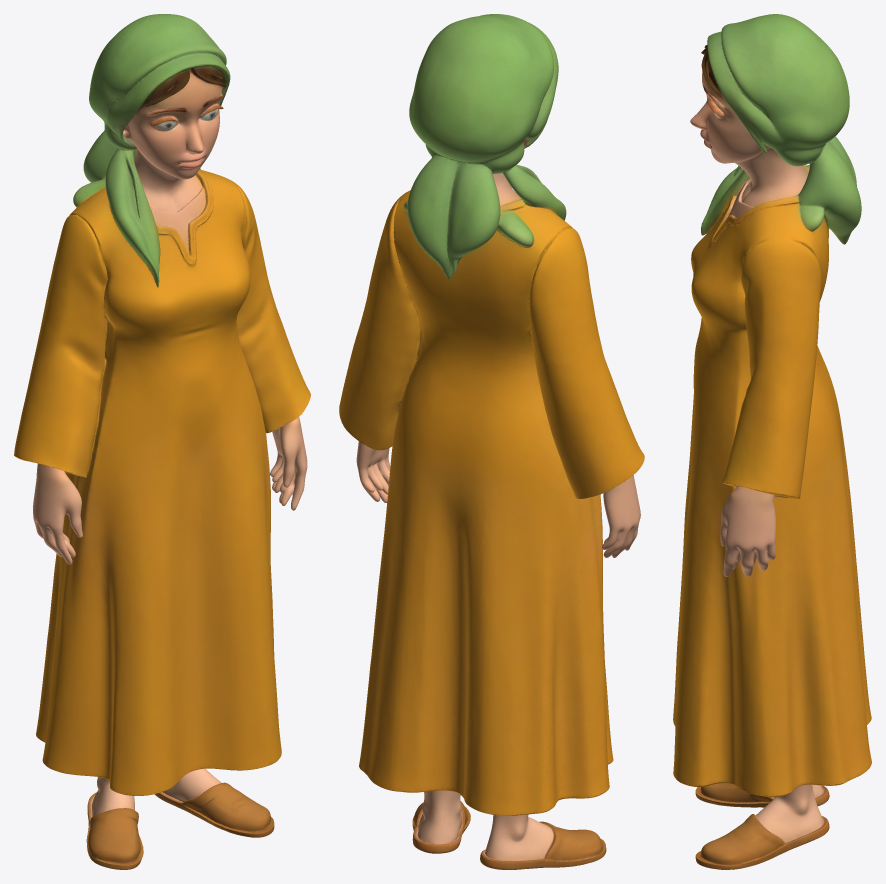
File: woman1__base_basic_pbr.glb
The picture shows the model from 3 angles, left to right: view 1: azimuth 30°, elevation 25°; view 2: azimuth 150°, elevation 25°; view 3: azimuth 270°, elevation 25°; orthographic projection. The views are drawn at different scales.
Visible parts, largest first — view 1: model; view 2: model; view 3: model.
Part boxes in pixels (left/top/right/bottom): model: left=14, top=14, right=310, bottom=869; model: left=339, top=14, right=644, bottom=869; model: left=673, top=14, right=871, bottom=869.
Size of the model in its own units: 0.7044 by 1.9 by 0.4226.
1 material, 1 textured.
